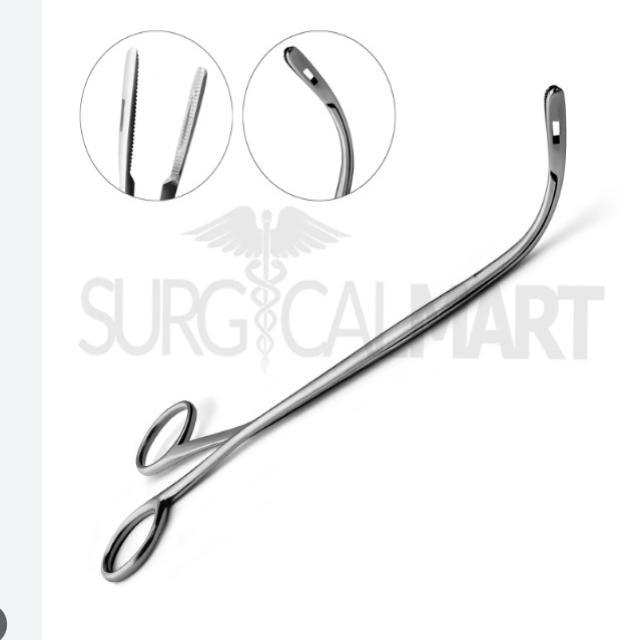Randall: (98, 75, 604, 580)
